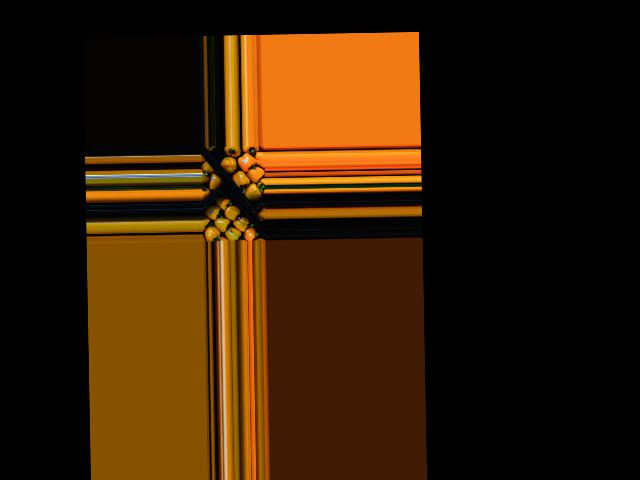bell_pepper: (201, 222, 218, 241)
